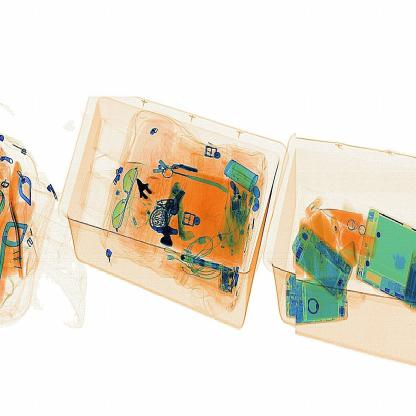gun: (133, 166, 160, 223)
